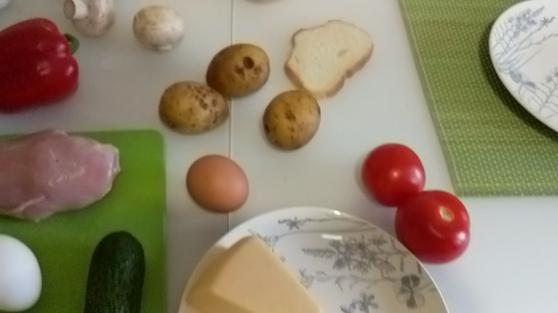champignon: (130, 6, 186, 54), (66, 1, 114, 37)
cheese: (186, 232, 327, 313)
chicken_fillet: (3, 131, 122, 223)
cucumber: (77, 231, 150, 313)
egg: (184, 151, 247, 212), (1, 232, 43, 310)
pepper: (2, 18, 80, 113)
potato: (259, 88, 322, 152), (159, 81, 230, 133), (209, 43, 271, 96)
tomato: (398, 190, 472, 261), (354, 140, 426, 206)
white_bread: (279, 17, 374, 100)
